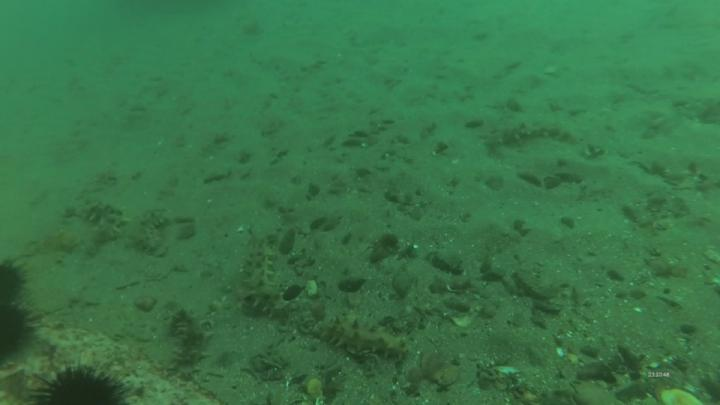echinus: (22, 355, 144, 405), (1, 301, 43, 364), (2, 258, 32, 306)
holothurian: (308, 307, 415, 363), (235, 233, 290, 313), (491, 119, 585, 153), (70, 199, 130, 249), (134, 207, 171, 249)
